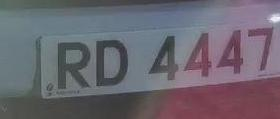4: (143, 29, 186, 89), (181, 26, 217, 87), (214, 24, 249, 83)
7: (245, 23, 276, 74)
D: (91, 36, 134, 91)
R: (50, 38, 96, 95)
